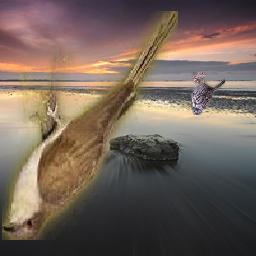Cuckoo: (2, 12, 178, 241)
Sparrow: (191, 73, 225, 116)
